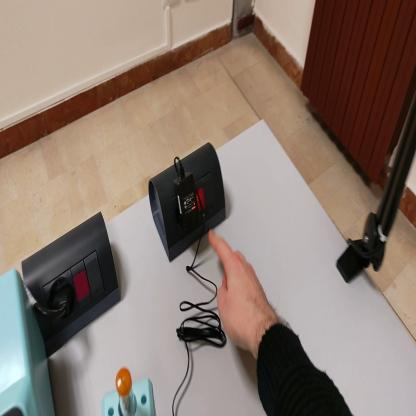hand: (209, 228, 270, 353)
socket: (20, 204, 125, 361), (150, 142, 228, 263)
welder base: (101, 370, 157, 415)
welder station: (3, 269, 57, 413)
